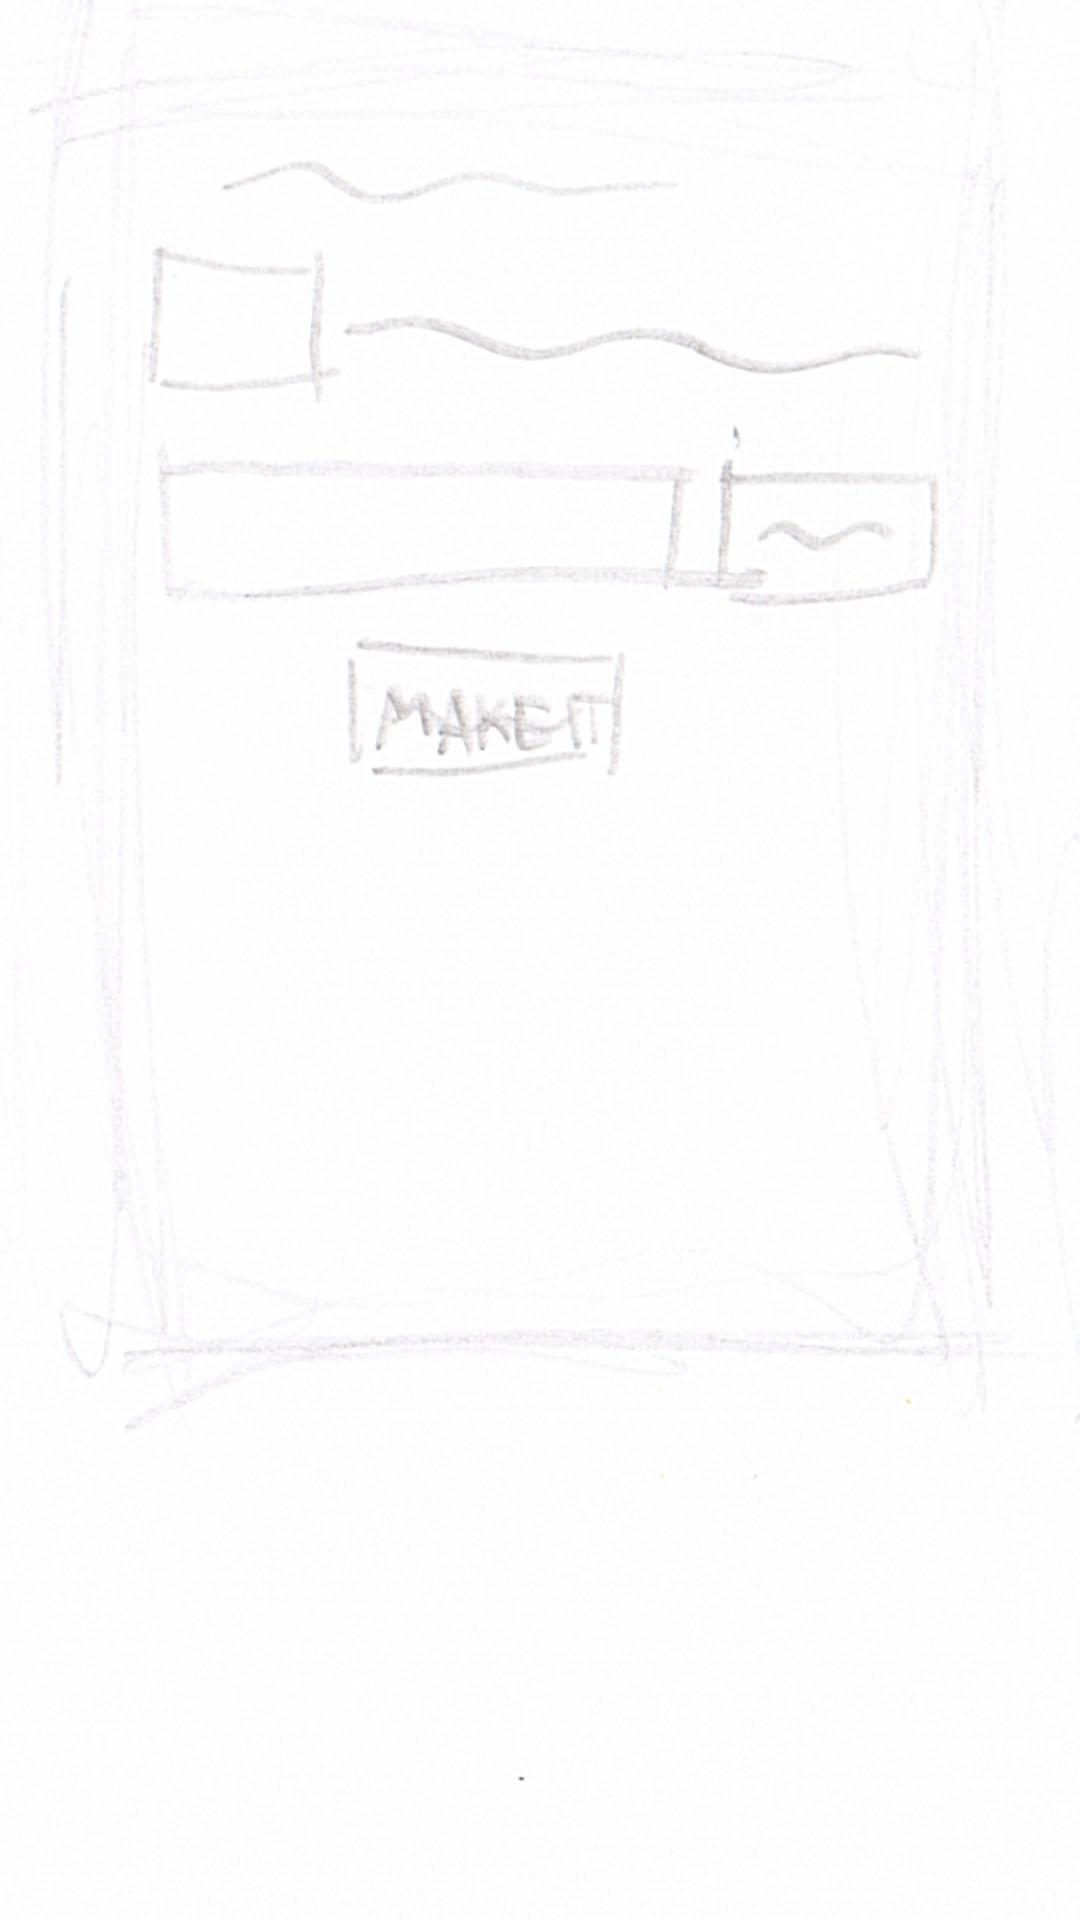Button: (344, 646, 632, 779), (717, 467, 935, 604)
CheckBox: (145, 245, 924, 394)
Label: (222, 154, 688, 214)
Screen: (54, 86, 1013, 1375)
TextBox: (154, 465, 702, 603)
